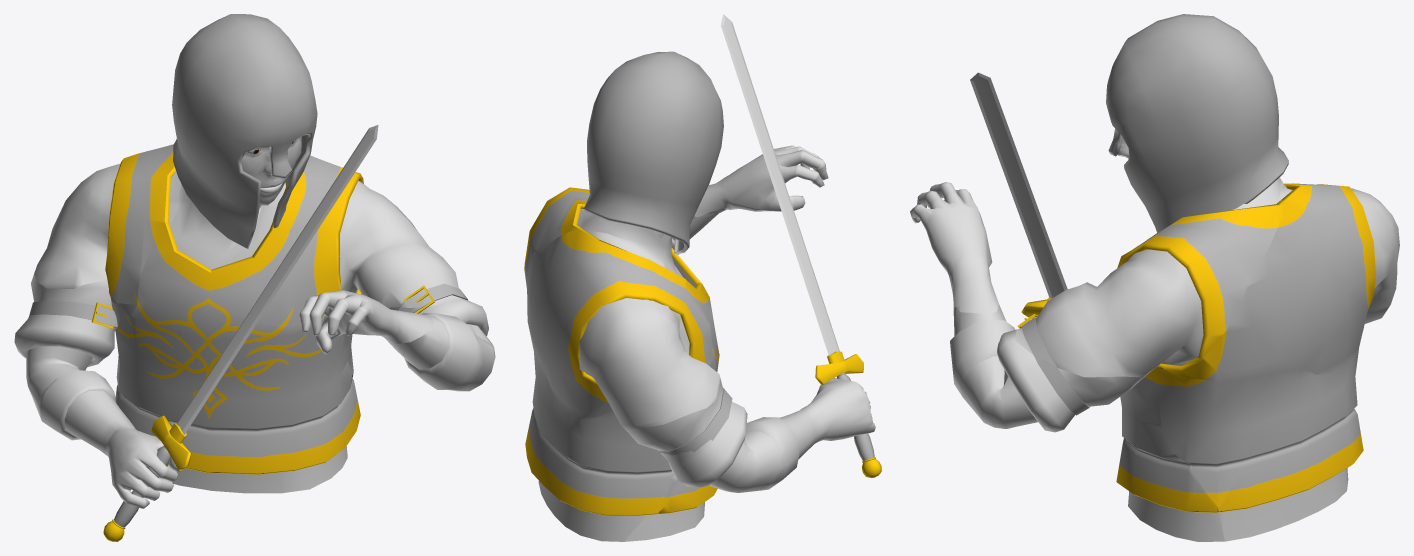
The model's file is warrior_shattered.fbx.
3 renders of one model, left to right at view 1: azimuth 30°, elevation 25°; view 2: azimuth 150°, elevation 25°; view 3: azimuth 270°, elevation 25°, orthographic. The views are drawn at different scales.
Visible parts, largest first — view 1: warrior_upperBody, warrior_lowerBodyFrontCut, warrior_rightArm, warrior_upperBodyRightCut, warrior_leftArm, warrior_leftHand, warrior_swordTip, warrior_lowerBodyBackCut; view 2: warrior_upperBodyRightCut, warrior_upperBody, warrior_rightArm, warrior_lowerBodyBackCut, warrior_leftHand, warrior_swordTip, warrior_lowerBodyFrontCut; view 3: warrior_upperBody, warrior_lowerBodyBackCut, warrior_upperBodyRightCut, warrior_leftArm, warrior_lowerBodyFrontCut, warrior_leftHand, warrior_swordTip, warrior_rightArm.
Part boxes in pixels (box(x1,y1,x2,y2)): warrior_upperBody: box(137, 14, 463, 324); warrior_lowerBodyFrontCut: box(115, 302, 360, 493); warrior_rightArm: box(14, 274, 231, 541); warrior_upperBodyRightCut: box(34, 144, 360, 304); warrior_leftArm: box(385, 294, 495, 391); warrior_leftHand: box(299, 290, 433, 354); warrior_swordTip: box(221, 125, 378, 361); warrior_lowerBodyBackCut: box(111, 291, 361, 397); warrior_upperBodyRightCut: box(524, 228, 720, 431); warrior_upperBody: box(524, 51, 723, 352); warrior_rightArm: box(627, 271, 881, 492); warrior_lowerBodyBackCut: box(525, 333, 714, 541); warrior_leftHand: box(694, 145, 828, 217); warrior_swordTip: box(720, 14, 813, 279); warrior_lowerBodyFrontCut: box(624, 330, 719, 541); warrior_upperBody: box(1015, 14, 1288, 377); warrior_lowerBodyBackCut: box(1136, 352, 1363, 541); warrior_upperBodyRightCut: box(1159, 183, 1399, 381); warrior_leftArm: box(950, 305, 1152, 432); warrior_lowerBodyFrontCut: box(1116, 385, 1224, 541); warrior_leftHand: box(910, 182, 999, 314); warrior_swordTip: box(970, 72, 1051, 246); warrior_rightArm: box(1021, 244, 1386, 329).
Bounding box in the file's own units: 119 × 145 × 136.
